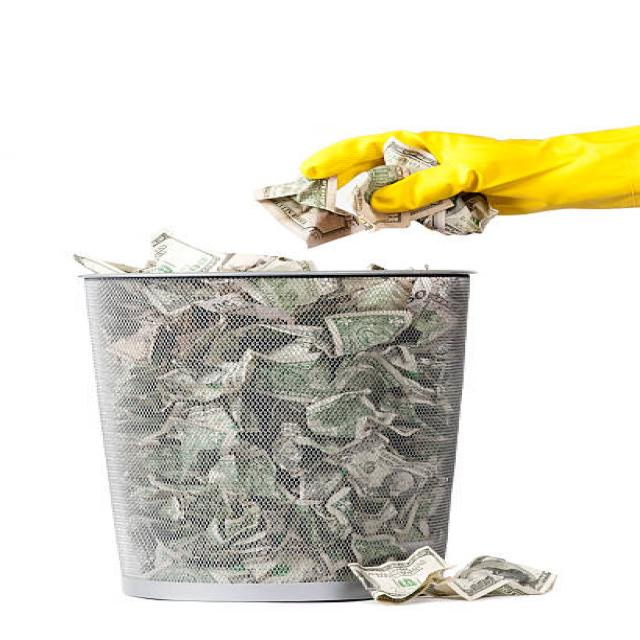paper: (47, 139, 515, 607)
